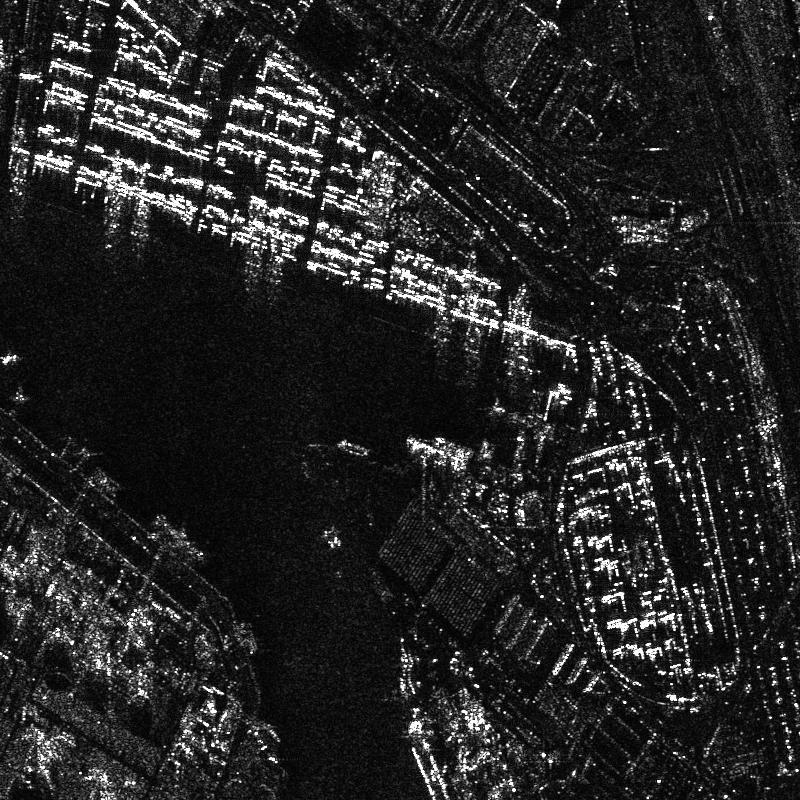ship: (407, 720, 449, 799), (406, 437, 467, 470), (434, 438, 474, 459), (155, 518, 181, 539), (177, 539, 203, 560), (336, 440, 368, 455), (266, 723, 280, 742)
